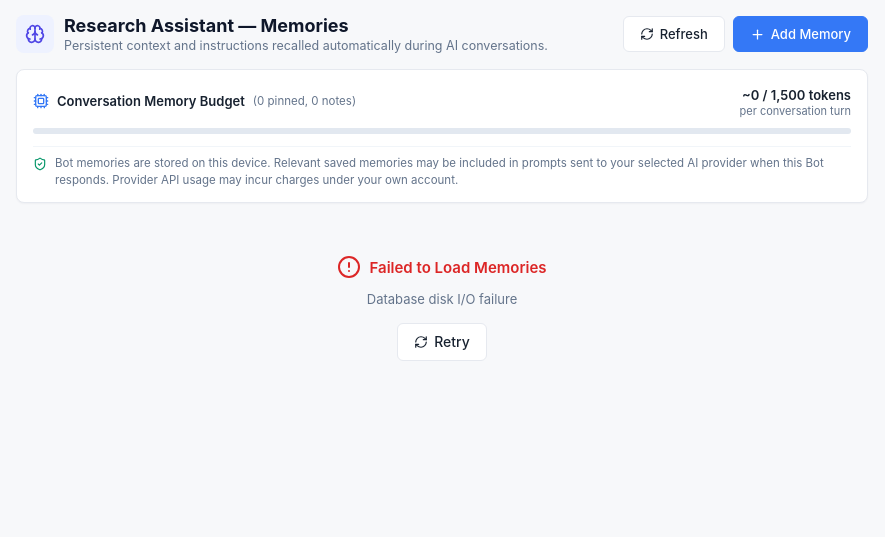
Test: Renderer: BotMemorySection (Phase 9 Step 9.3) › 3. renders error state with retry button when list API fails
Expected: the element with test id "bot-memory-error-state" is shown, [338,255,546,361]
Expected: the text "Database disk I/O failure" is shown, [367,291,517,307]
Step 1. Click the button with test id "btn-retry-load-memories" → (442, 342), box [397,323,487,361]
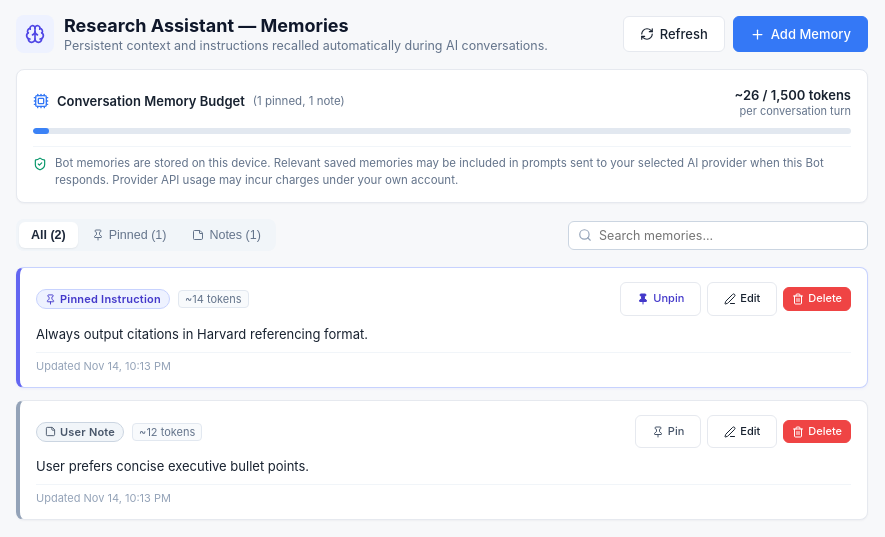
Expected: the element with test id "bot-memory-list-container" is shown, [16,219,868,520]
